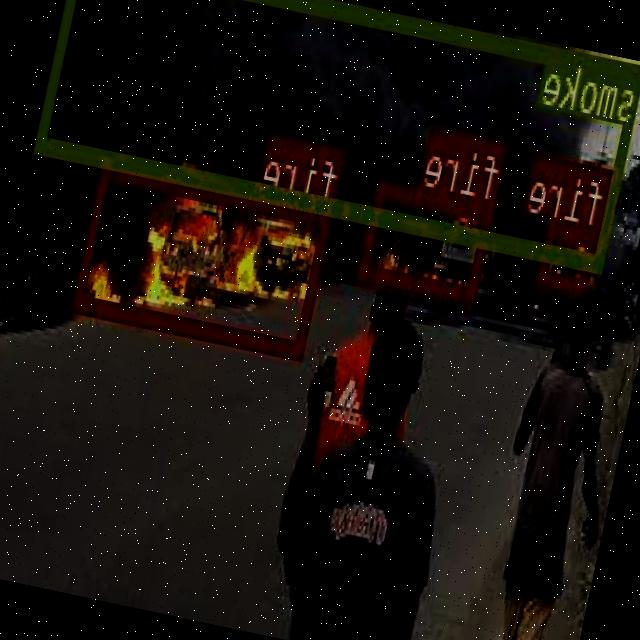fire: (73, 159, 336, 358), (359, 179, 497, 301), (539, 220, 601, 293)
smoke: (36, 0, 640, 268)
